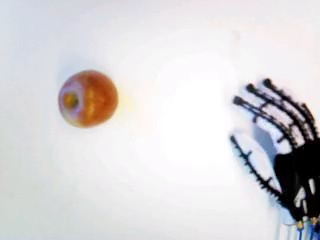apple: (56, 68, 118, 128)
hand: (229, 77, 318, 228)
